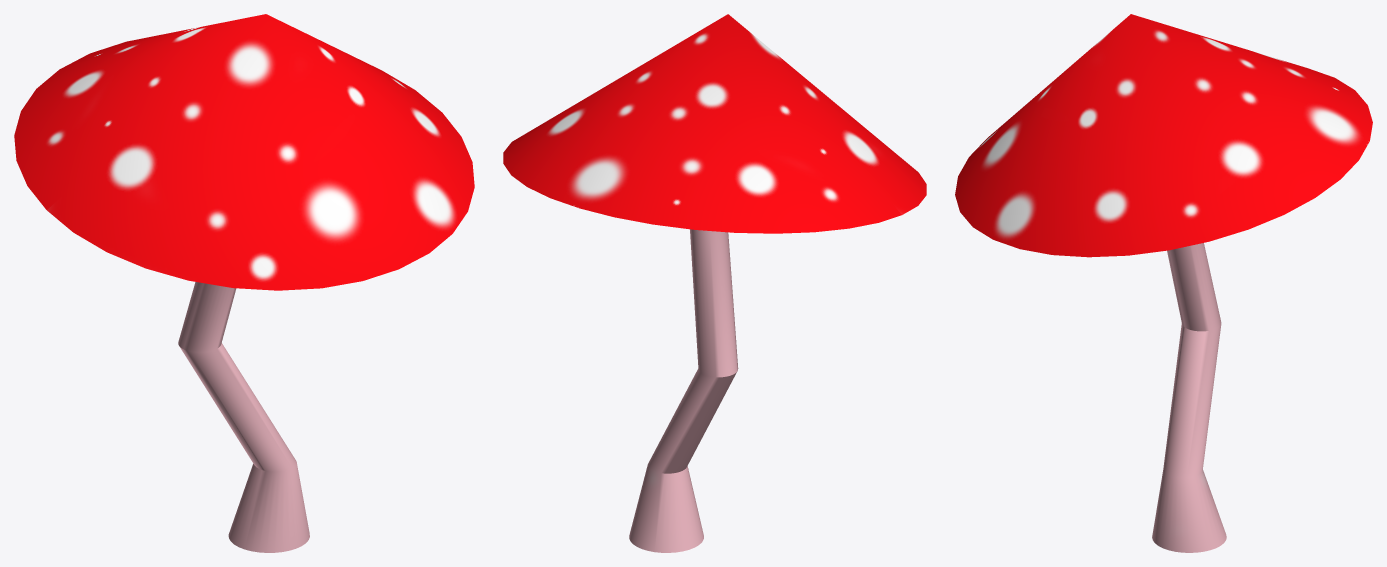
The model's file is mushroom1.fbx.
The picture shows the model from 3 angles, left to right: view 1: azimuth 30°, elevation 25°; view 2: azimuth 150°, elevation 25°; view 3: azimuth 270°, elevation 25°; orthographic projection. The views are drawn at different scales.
Visible parts, largest first — view 1: Cone; view 2: Cone; view 3: Cone.
Boxes of the visible parts, box(x1,y1,x2,y2) form: Cone: box(14, 14, 474, 552); Cone: box(503, 14, 926, 552); Cone: box(955, 14, 1372, 552).
Bounding box in the file's own units: 505 × 666 × 497.
1 material, 1 textured.
